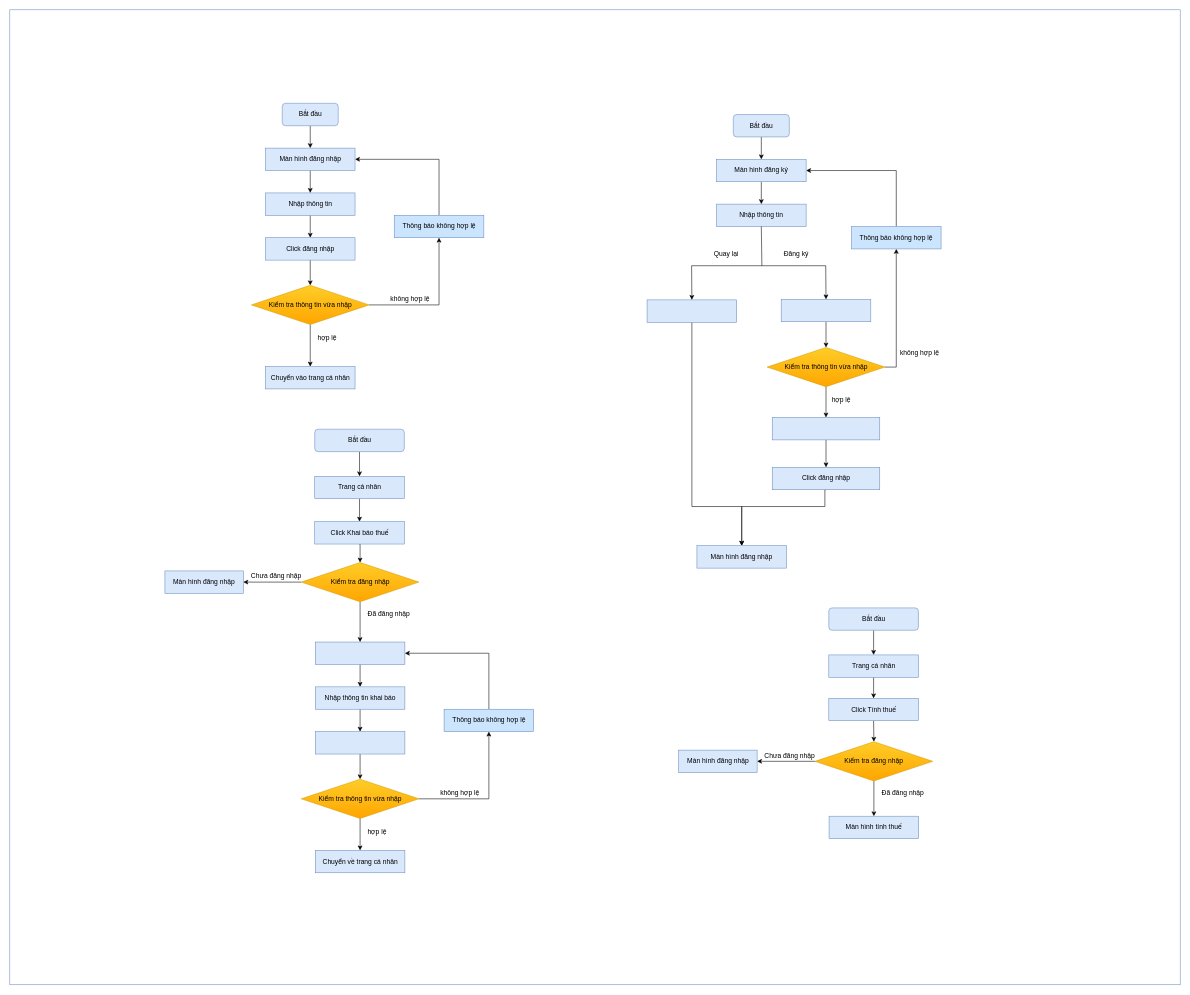
The diagram is 1190 pixels wide and 995 high, and some of its shapes have lost their labels. The box of each missing label's shape, as (x1, y1, x2, y2) in pixels:
Click lưu: (315, 731, 405, 754)
Click quay lại: (647, 299, 737, 322)
Click đăng ký: (781, 299, 871, 322)
Màn hình khai báo thuế: (315, 641, 405, 664)
Thông báo đăng ký thành công: (772, 417, 880, 440)
